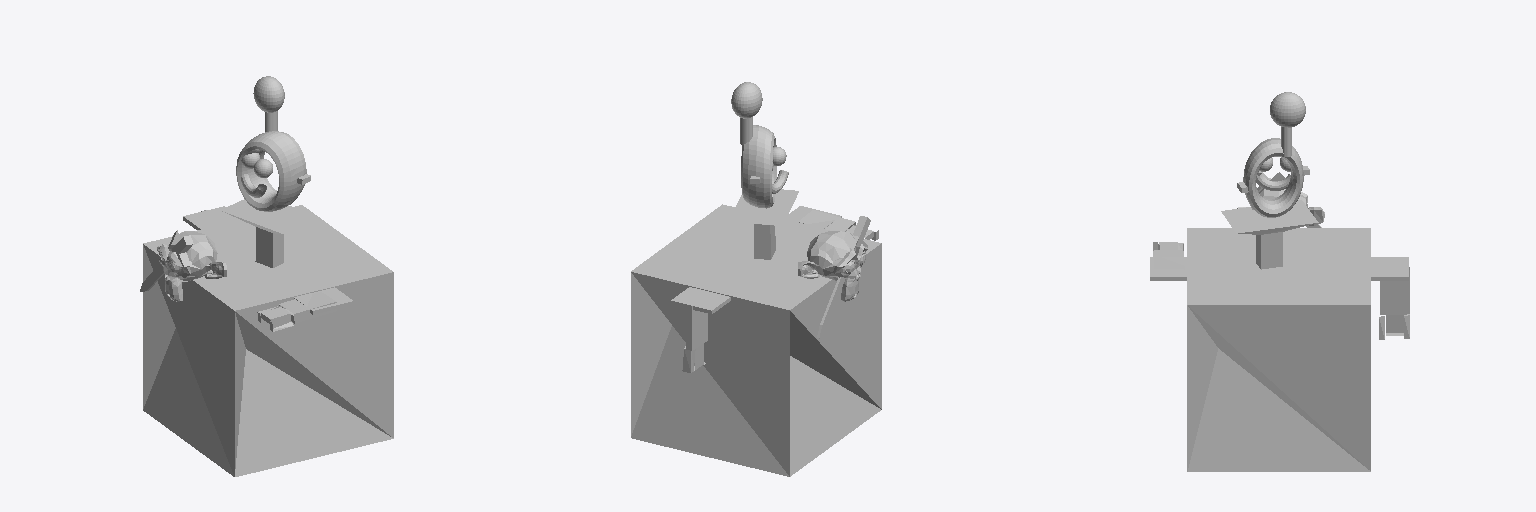
File: Robot_000032.obj
3 views of the same model, side by side, from view 1: azimuth 30°, elevation 25°; view 2: azimuth 150°, elevation 25°; view 3: azimuth 270°, elevation 25° (orthographic).
Parts seen in each view (by area): view 1: Cube.001_Cube, Cube_Cube.001, Suzanne, Left_Hand.001_Cube.005, Cube.002_Cube.004, Sphere, Cube.003_Cube.006; view 2: Cube.001_Cube, Cube_Cube.001, Suzanne, Cube.002_Cube.004, Left_Hand_Cube.002, Cube.003_Cube.006, Sphere, Left_Hand.001_Cube.005; view 3: Cube.001_Cube, Cube_Cube.001, Left_Hand_Cube.002, Cube.002_Cube.004, Sphere, Left_Hand.001_Cube.005.
Part boxes in pixels (left/top/right/bottom): Cube.001_Cube: left=143, top=205, right=393, bottom=476; Cube_Cube.001: left=220, top=131, right=319, bottom=267; Suzanne: left=157, top=231, right=226, bottom=301; Left_Hand.001_Cube.005: left=257, top=292, right=336, bottom=331; Cube.002_Cube.004: left=183, top=206, right=353, bottom=314; Sphere: left=253, top=76, right=284, bottom=112; Cube.003_Cube.006: left=140, top=230, right=193, bottom=291; Cube.001_Cube: left=631, top=204, right=881, bottom=476; Cube_Cube.001: left=728, top=125, right=798, bottom=259; Suzanne: left=798, top=231, right=867, bottom=301; Cube.002_Cube.004: left=671, top=206, right=841, bottom=313; Left_Hand_Cube.002: left=682, top=305, right=707, bottom=372; Cube.003_Cube.006: left=817, top=216, right=870, bottom=338; Sphere: left=731, top=82, right=762, bottom=118; Left_Hand.001_Cube.005: left=799, top=210, right=878, bottom=240; Cube.001_Cube: left=1187, top=228, right=1370, bottom=471; Cube_Cube.001: left=1221, top=138, right=1318, bottom=269; Left_Hand_Cube.002: left=1379, top=267, right=1409, bottom=339; Cube.002_Cube.004: left=1150, top=257, right=1408, bottom=280; Sphere: left=1270, top=92, right=1305, bottom=127; Left_Hand.001_Cube.005: left=1153, top=242, right=1184, bottom=269.
Size of the model in its own units: 2.3 by 4.11 by 2.83.